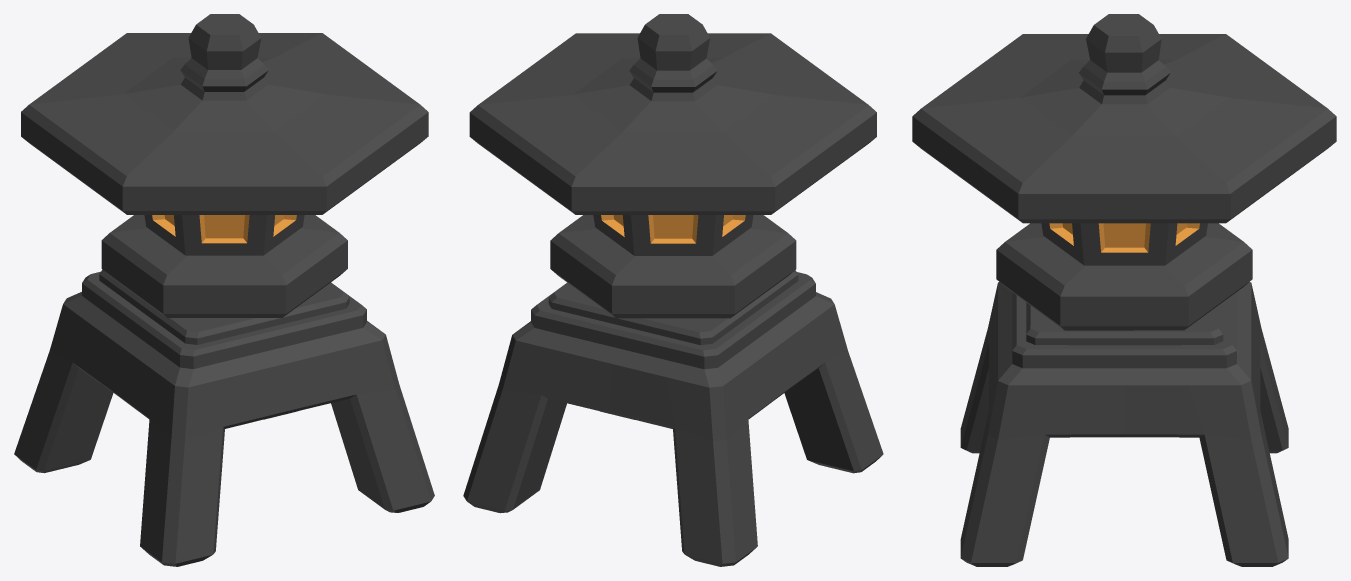
File: LanternaPedra.fbx
3 renders of one model, left to right at view 1: azimuth 30°, elevation 25°; view 2: azimuth 150°, elevation 25°; view 3: azimuth 270°, elevation 25°, orthographic. The views are drawn at different scales.
Visible parts, largest first — view 1: LanternaPedra_LOD0; view 2: LanternaPedra_LOD0; view 3: LanternaPedra_LOD0.
Part boxes in pixels (<box>): LanternaPedra_LOD0: <box>14,14,434,566</box>; LanternaPedra_LOD0: <box>463,14,883,566</box>; LanternaPedra_LOD0: <box>912,14,1336,566</box>.
Size of what is drawn, in the model's own units: 89.39 by 128 by 103.
